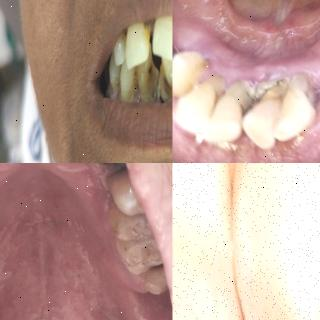calculus: (286, 72, 318, 121), (227, 74, 253, 130), (256, 74, 281, 131), (157, 69, 173, 107), (138, 14, 154, 49)
cavities: (262, 288, 320, 320), (145, 260, 167, 286), (143, 61, 154, 79)
maligned: (244, 101, 276, 153)
